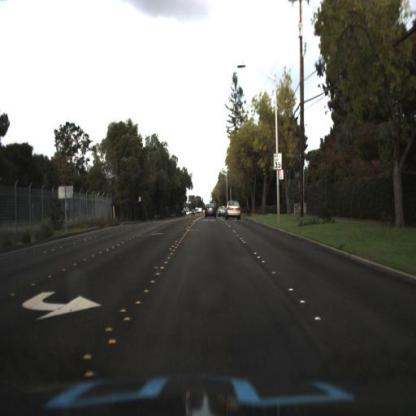car: (224, 199, 244, 222), (203, 199, 219, 222)
